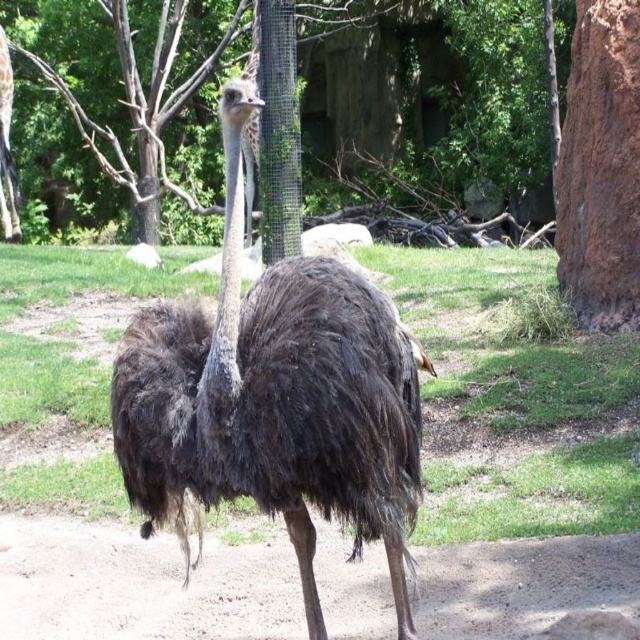Ostrich: (109, 74, 438, 640)
